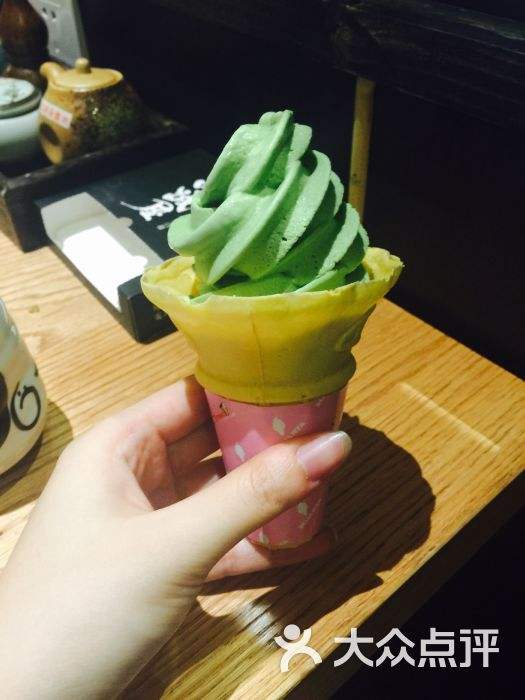no-phone: (5, 102, 406, 690)
